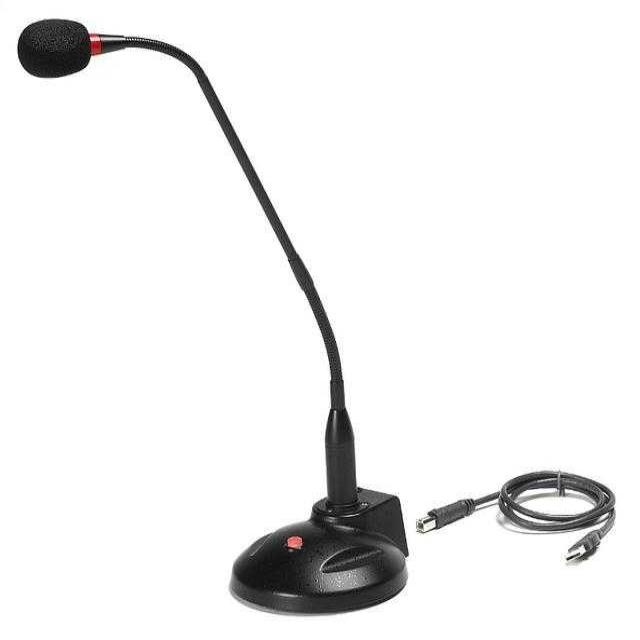microphone: (16, 18, 150, 78)
